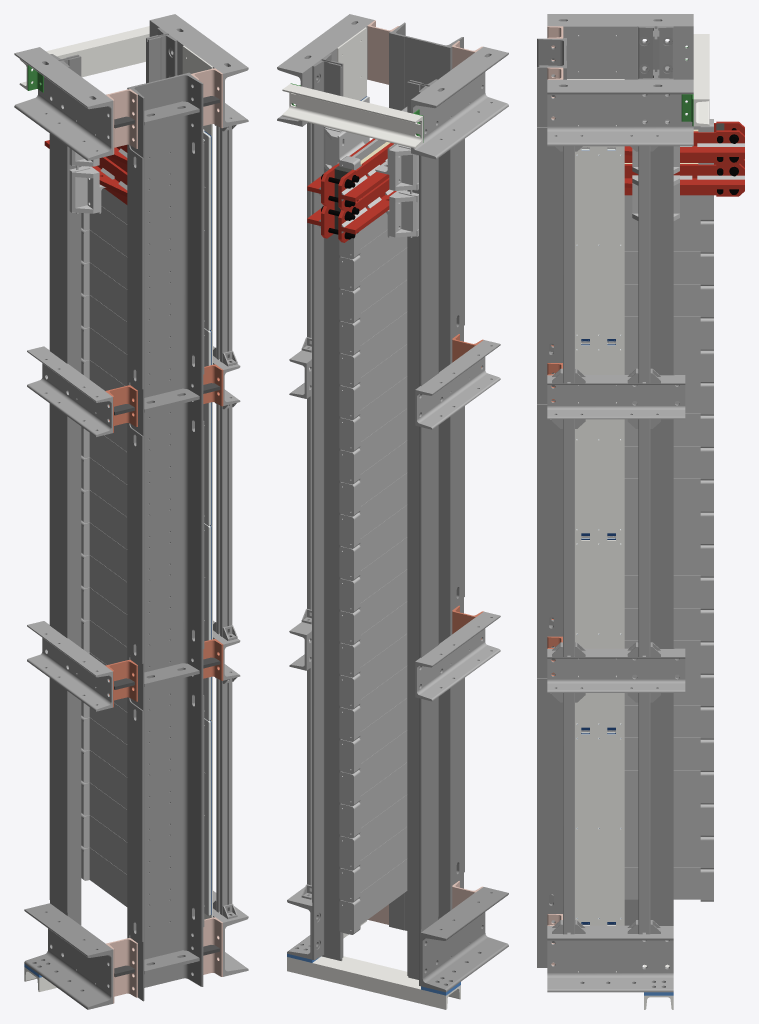
3 renders of one model, left to right at view 1: azimuth 30°, elevation 25°; view 2: azimuth 150°, elevation 25°; view 3: azimuth 270°, elevation 25°, orthographic.
Parts seen in each view (by area): view 1: Mesh_4, guiderail_2, Mesh_230, Mesh_227, Mesh_228, Mesh_229, Mesh_177, Mesh_157, Mesh_178, Mesh_239, Mesh_141, Mesh_154 (+38 smaller); view 2: guiderail_2, guiderail_1, Mesh_4, Mesh_230, Mesh_227, Mesh_239, Mesh_229, Mesh_228, Mesh_140, Mesh_141, stator_22, stator_13 (+36 smaller); view 3: Mesh_154, Mesh_4, guiderail_1, Mesh_141, Mesh_155, Mesh_230, Mesh_151, Mesh_148, Mesh_180, Mesh_176, Mesh_179, Mesh_177 (+30 smaller).
Boxes of the visible parts, <box> form: Mesh_4: <box>127,72,204,1001</box>; guiderail_2: <box>49,54,81,955</box>; Mesh_230: <box>14,47,113,160</box>; Mesh_227: <box>24,903,113,1009</box>; Mesh_228: <box>27,621,112,711</box>; Mesh_229: <box>27,346,112,436</box>; Mesh_177: <box>216,678,232,915</box>; Mesh_157: <box>216,125,232,362</box>; Mesh_178: <box>216,403,232,636</box>; Mesh_239: <box>19,26,149,90</box>; Mesh_141: <box>149,14,248,127</box>; Mesh_154: <box>182,45,212,919</box>; guiderail_2: <box>407,79,438,986</box>; guiderail_1: <box>312,53,343,960</box>; Mesh_4: <box>389,22,464,930</box>; Mesh_230: <box>411,46,508,159</box>; Mesh_227: <box>421,887,508,992</box>; Mesh_239: <box>282,83,422,148</box>; Mesh_229: <box>415,340,500,429</box>; Mesh_228: <box>415,611,500,701</box>; Mesh_140: <box>287,956,460,1009</box>; Mesh_141: <box>277,14,374,126</box>; stator_22: <box>339,601,407,677</box>; stator_13: <box>339,473,407,548</box>; Mesh_154: <box>567,79,624,971</box>; Mesh_4: <box>537,38,566,967</box>; guiderail_1: <box>638,69,673,968</box>; Mesh_141: <box>547,79,693,146</box>; Mesh_155: <box>547,925,673,992</box>; Mesh_230: <box>547,14,693,79</box>; Mesh_151: <box>547,375,685,419</box>; Mesh_148: <box>547,648,685,692</box>; Mesh_180: <box>638,693,650,934</box>; Mesh_176: <box>638,419,650,656</box>; Mesh_179: <box>638,146,650,383</box>; Mesh_177: <box>563,693,574,934</box>.
Bounding box in the file's own units: 4.66 × 25.49 × 5.23.
